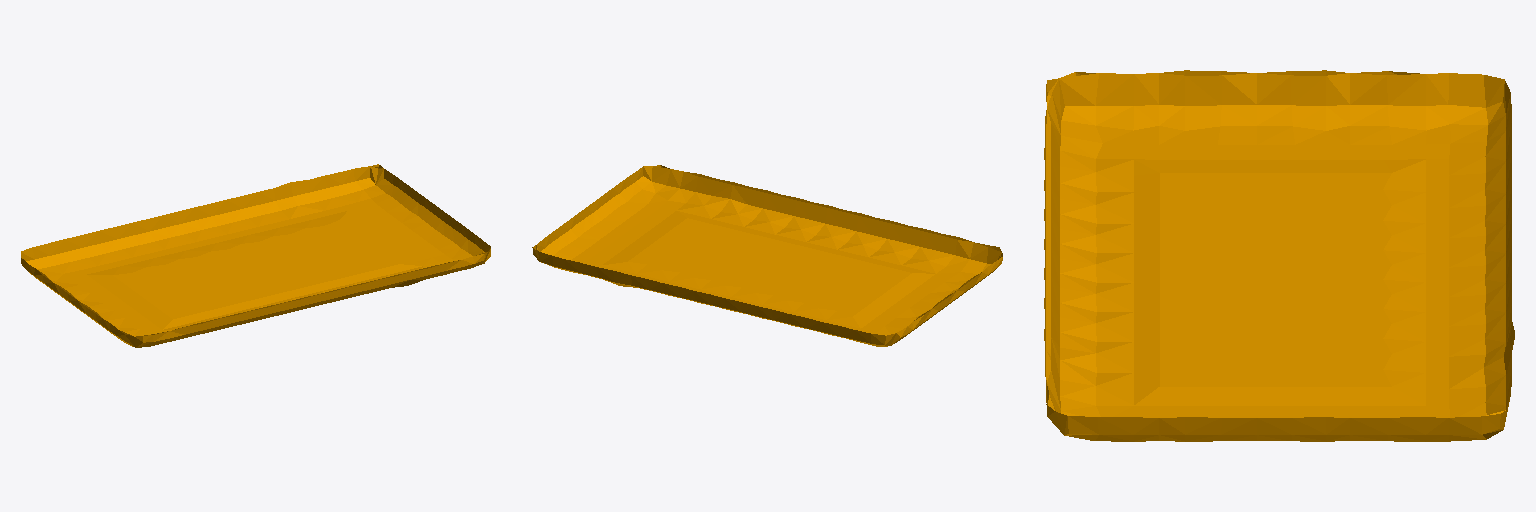
URDF robot description (shallow_tray):
<?xml version="0.0" ?>
<robot name="shallow_tray">
  <link name="base_link">
  <contact>
      <lateral_friction value="1"/>
  </contact>
    <inertial>
      <origin rpy="0 0 0" xyz="0 0 0"/>
       <mass value="0.2"/>
       <inertia ixx="0.001" ixy="0" ixz="0" iyy="0.001" iyz="0" izz="0.001"/>
    </inertial>
    <visual>
      <origin rpy="0 0 0" xyz="0 0 0"/>
      <geometry>
				<mesh filename="no_lid.obj" scale="0.012 0.012 0.012"/>
      </geometry>
       <material name="greenish">
        <texture filename="no_lid.obj.mtl"/>
      </material>
    </visual>
    <collision>
      <origin rpy="0 0 0" xyz="0 0 0"/>
      <geometry>
				<mesh filename="no_lid_simplified.obj" scale="0.012 0.012 0.012"/>
      </geometry>
    </collision>
  </link>
</robot>

--- Render facts (derived) ---
3 views of the same robot in one strip: view 1: azimuth 30°, elevation 25°; view 2: azimuth 150°, elevation 25°; view 3: azimuth 270°, elevation 25° (orthographic).
Model shallow_tray with 1 links and 0 joints (none), rooted at base_link, posed all joints at 0.
Links seen in each view (by area): view 1: base_link; view 2: base_link; view 3: base_link.
Link boxes in pixels (x1,y1,x2,y2): base_link: (21, 164, 490, 347); base_link: (532, 165, 1002, 346); base_link: (1044, 70, 1514, 441).
Bounding box of the posed robot: 0.2947 × 0.1697 × 0.0171 m (x, y, z).
Meshes: 1 distinct files referenced, 1 mesh visuals loaded (1 OBJ).
